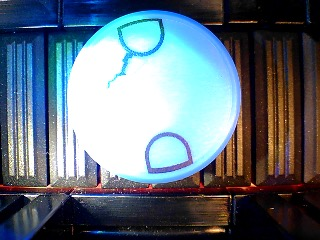CRACK: (66, 10, 241, 183)
